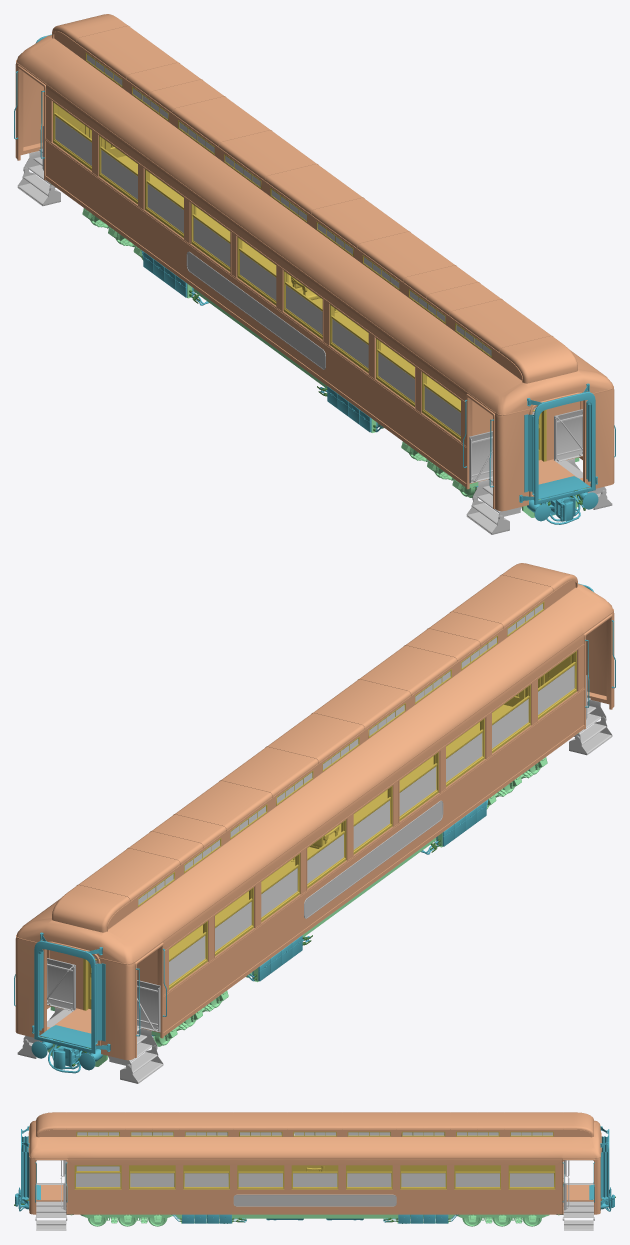
Rendered from Passenger_Car_1_Class.fbx.
The picture shows the model from 3 angles, top to bottom: view 1: azimuth 30°, elevation 25°; view 2: azimuth 150°, elevation 25°; view 3: azimuth 270°, elevation 25°; orthographic projection. The views are drawn at different scales.
Parts seen in each view (by area): view 1: Passenger_Car_1_Class, Passenger_Car_Ladder_Cover_1, Passenger_Car_Ladder_Cover_2, Passenger_Car_Ladder_4, Passenger_Car_Ladder_2; view 2: Passenger_Car_1_Class, Passenger_Car_Ladder_Cover_3, Passenger_Car_Ladder_Cover_4, Passenger_Car_Ladder_2, Passenger_Car_Ladder_4; view 3: Passenger_Car_1_Class, Passenger_Car_Carriage_2, Passenger_Car_Carriage_1, Passenger_Car_Ladder_1, Passenger_Car_Ladder_3, Passenger_Car_Window.
Boxes of the visible parts, left/top/right/bottom form: Passenger_Car_1_Class: left=14, top=14, right=615, bottom=524; Passenger_Car_Ladder_Cover_1: left=554, top=409, right=582, bottom=462; Passenger_Car_Ladder_Cover_2: left=469, top=431, right=492, bottom=483; Passenger_Car_Ladder_4: left=17, top=167, right=60, bottom=205; Passenger_Car_Ladder_2: left=466, top=496, right=509, bottom=534; Passenger_Car_1_Class: left=14, top=563, right=615, bottom=1073; Passenger_Car_Ladder_Cover_3: left=47, top=958, right=75, bottom=1011; Passenger_Car_Ladder_Cover_4: left=137, top=980, right=160, bottom=1032; Passenger_Car_Ladder_2: left=569, top=716, right=612, bottom=755; Passenger_Car_Ladder_4: left=120, top=1045, right=163, bottom=1083; Passenger_Car_1_Class: left=14, top=1112, right=615, bottom=1223; Passenger_Car_Carriage_2: left=455, top=1214, right=549, bottom=1224; Passenger_Car_Carriage_1: left=80, top=1214, right=174, bottom=1224; Passenger_Car_Ladder_1: left=36, top=1217, right=66, bottom=1230; Passenger_Car_Ladder_3: left=563, top=1217, right=593, bottom=1230; Passenger_Car_Window: left=75, top=1166, right=120, bottom=1171.
Bounding box in the file's own units: 285 × 360 × 2002.
